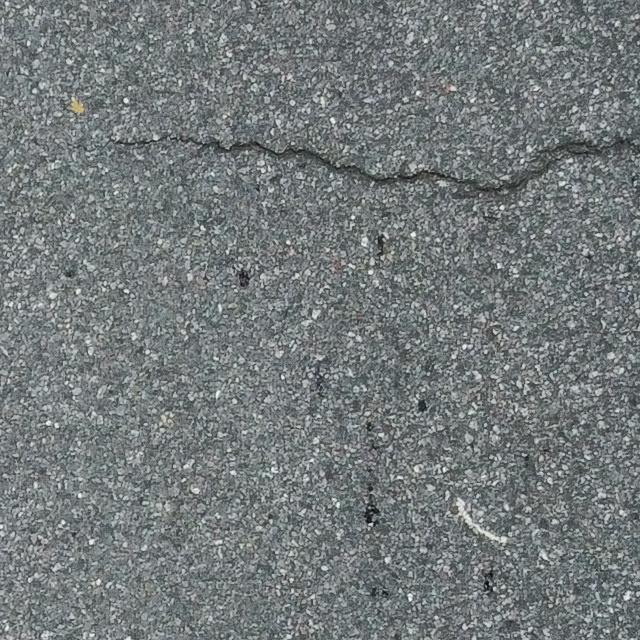TransverseCrack: (116, 129, 640, 198)
